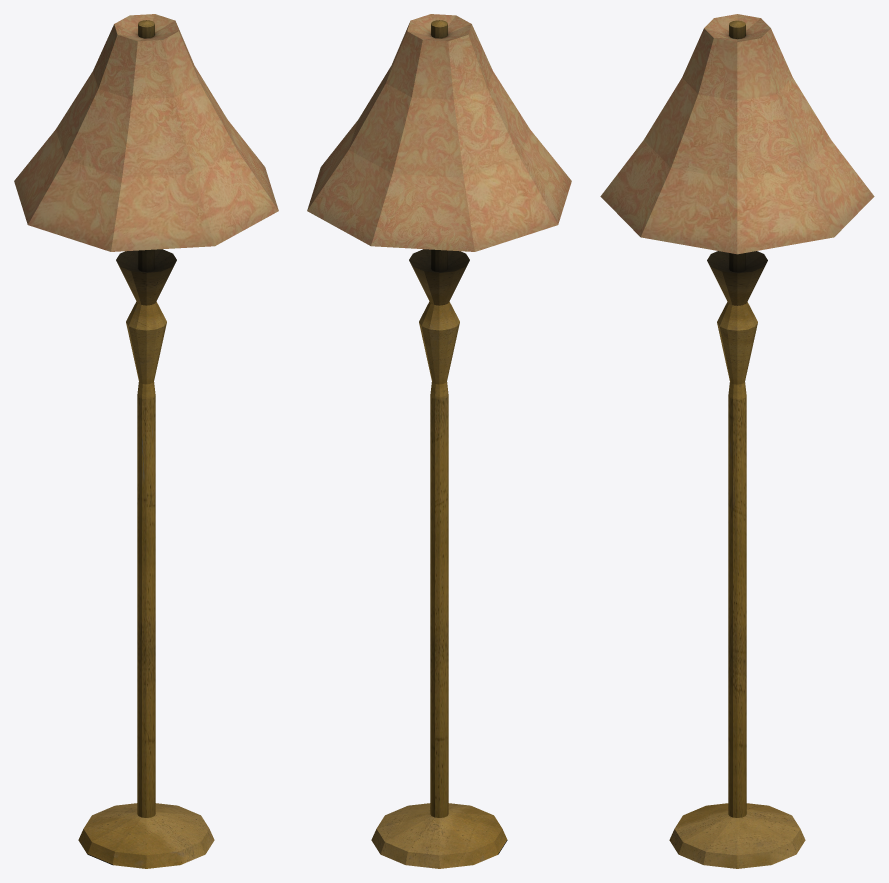
Rendered from lamp.obj.
The picture shows the model from 3 angles, left to right: view 1: azimuth 30°, elevation 25°; view 2: azimuth 150°, elevation 25°; view 3: azimuth 270°, elevation 25°; orthographic projection.
Visible parts, largest first — view 1: LampShade, Lamp; view 2: LampShade, Lamp; view 3: LampShade, Lamp.
Boxes of the visible parts, x1=… form: LampShade: x1=14, y1=14, x2=278, y2=251; Lamp: x1=78, y1=20, x2=214, y2=868; LampShade: x1=307, y1=14, x2=571, y2=251; Lamp: x1=371, y1=20, x2=507, y2=868; LampShade: x1=600, y1=14, x2=874, y2=254; Lamp: x1=669, y1=20, x2=805, y2=868.
Size of the model in its own units: 2 by 6.59 by 2.
Materials: 2 (2 with a texture image).
